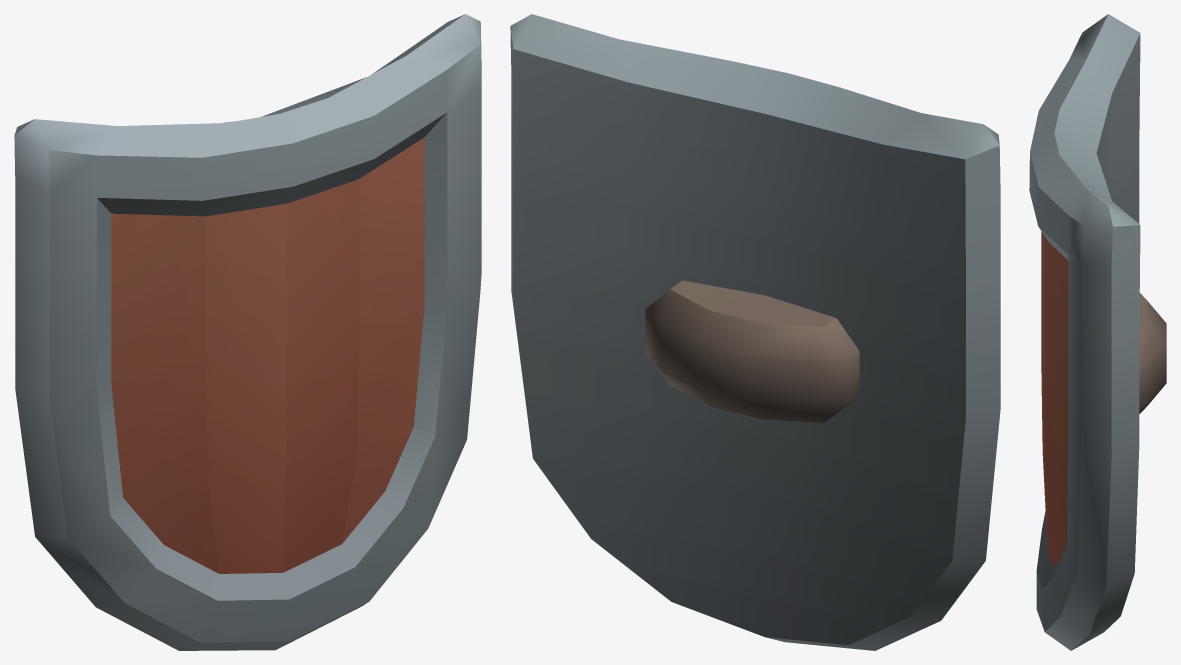
Rendered from shield_badge.glb.
3 views of the same model, side by side, from view 1: azimuth 30°, elevation 25°; view 2: azimuth 150°, elevation 25°; view 3: azimuth 270°, elevation 25° (orthographic). The views are drawn at different scales.
Visible parts, largest first — view 1: shield_badge; view 2: shield_badge; view 3: shield_badge.
Boxes of the visible parts, x1,y1,x2,y2 form: shield_badge: (14, 14, 481, 650); shield_badge: (510, 14, 1000, 650); shield_badge: (1029, 14, 1166, 650).
Size of the model in its own units: 0.8827 by 1.02 by 0.2458.
Materials: 1 (1 with a texture image).
